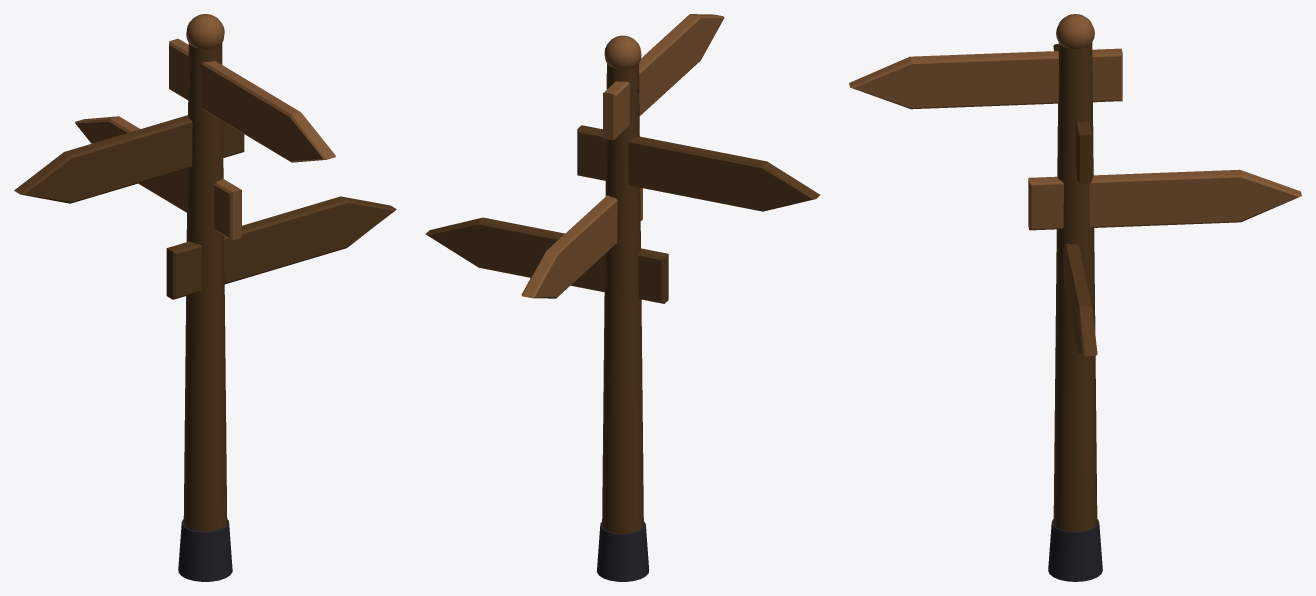
File: mia-signpost.glb
3 views of the same model, side by side, from view 1: azimuth 30°, elevation 25°; view 2: azimuth 150°, elevation 25°; view 3: azimuth 270°, elevation 25° (orthographic). The views are drawn at different scales.
Visible parts, largest first — view 1: Body_wood, Body_oak, Body_iron; view 2: Body_wood, Body_oak, Body_iron; view 3: Body_oak, Body_wood, Body_iron.
Part boxes in pixels (x1,y1,x2,y2): Body_wood: (14,43,396,531); Body_oak: (75,14,335,240); Body_iron: (178,69,232,581); Body_wood: (425,64,820,533); Body_oak: (521,14,724,298); Body_iron: (597,88,649,581); Body_oak: (849,14,1301,230); Body_wood: (1053,42,1097,531); Body_iron: (1048,519,1102,581).
Bounding box in the file's own units: 1.54 × 2.09 × 1.54.
